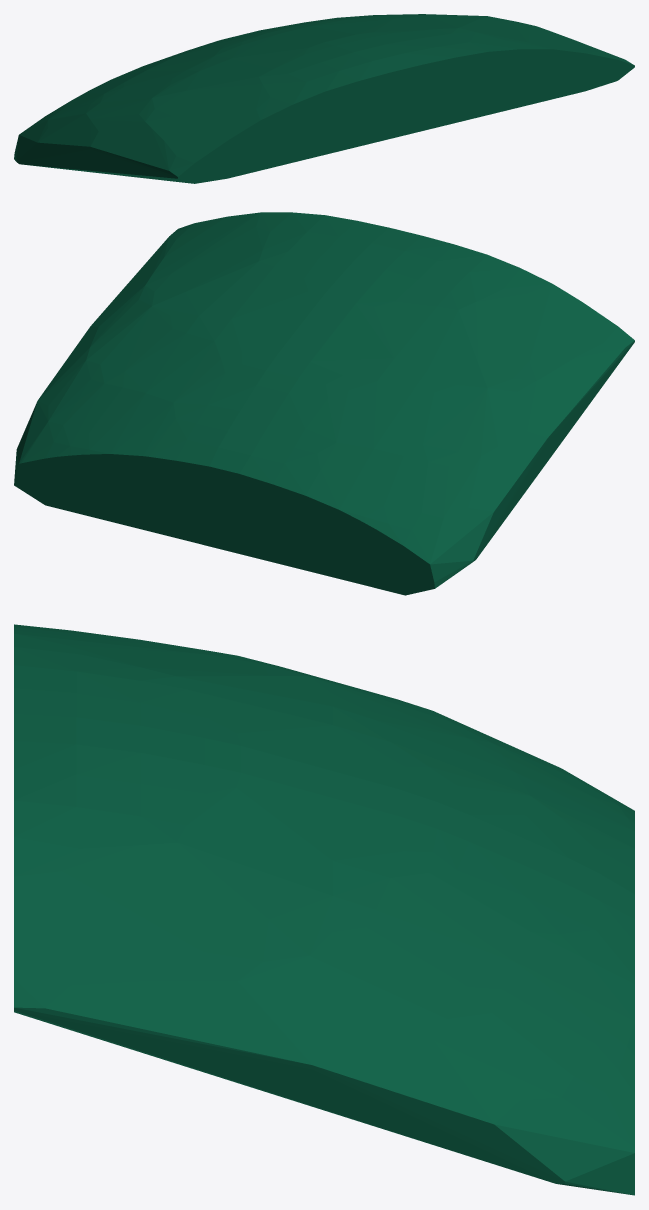
Rendered from left-shoulder-pitch-0_part_66.obj.
3 renders of one model, top to bottom at view 1: azimuth 30°, elevation 25°; view 2: azimuth 150°, elevation 25°; view 3: azimuth 270°, elevation 25°, orthographic. The views are drawn at different scales.
Size of the model in its own units: 0.029 by 0.0113 by 0.02.
